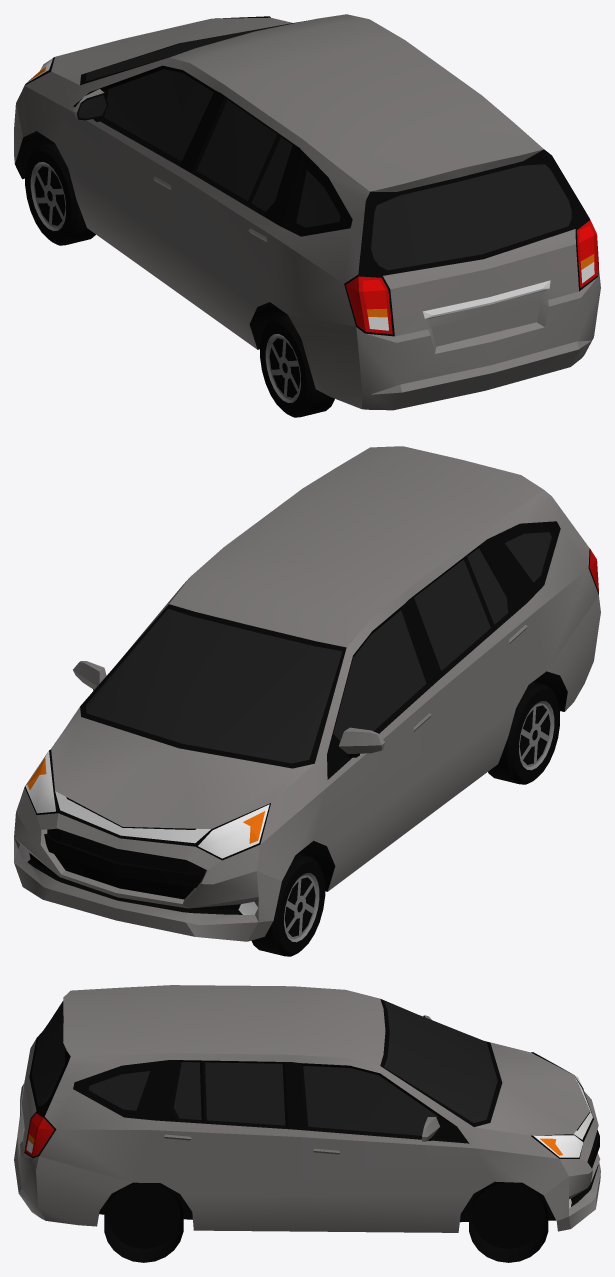
Rendered from sigra.glb.
The picture shows the model from 3 angles, top to bottom: view 1: azimuth 30°, elevation 25°; view 2: azimuth 150°, elevation 25°; view 3: azimuth 270°, elevation 25°; orthographic projection. The views are drawn at different scales.
Parts seen in each view (by area): view 1: body, glass, wheel_RL, wheel_FL, lamp_tail; view 2: body, glass, wheel_RL, wheel_FL, lamp_head; view 3: body, glass, wheel_FR, wheel_RR, lamp_head, lamp_tail.
Boxes of the visible parts, box(x1,y1,x2,y2) form: body: box(14, 14, 600, 410); glass: box(78, 20, 571, 270); wheel_RL: box(260, 314, 334, 417); wheel_FL: box(25, 142, 95, 245); lamp_tail: box(345, 220, 598, 334); body: box(14, 446, 600, 941); glass: box(85, 532, 551, 763); wheel_RL: box(488, 682, 559, 784); wheel_FL: box(251, 853, 325, 956); lamp_head: box(18, 751, 269, 914); body: box(14, 985, 600, 1232); glass: box(31, 1001, 497, 1135); wheel_FR: box(469, 1182, 548, 1262); wheel_RR: box(104, 1182, 183, 1262); lamp_head: box(533, 1053, 583, 1208); lamp_tail: box(25, 1113, 54, 1156).
Bounding box in the file's own units: 1.91 × 1.54 × 4.06.
